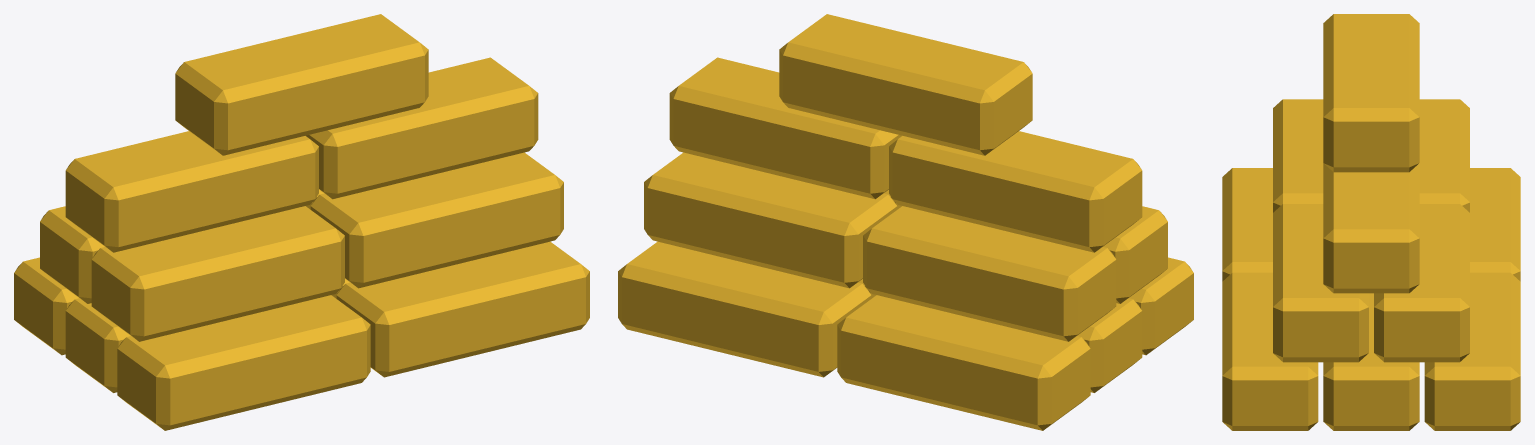
The model's file is gold_bar_stack.glb.
3 views of the same model, side by side, from view 1: azimuth 30°, elevation 25°; view 2: azimuth 150°, elevation 25°; view 3: azimuth 270°, elevation 25° (orthographic). The views are drawn at different scales.
Parts seen in each view (by area): view 1: gold_bar_stack; view 2: gold_bar_stack; view 3: gold_bar_stack.
Part boxes in pixels (x1=…): gold_bar_stack: x1=14, y1=14, x2=589, y2=430; gold_bar_stack: x1=618, y1=14, x2=1193, y2=430; gold_bar_stack: x1=1222, y1=14, x2=1520, y2=430.
Bounding box in the file's own units: 0.485 × 0.295 × 0.295.
